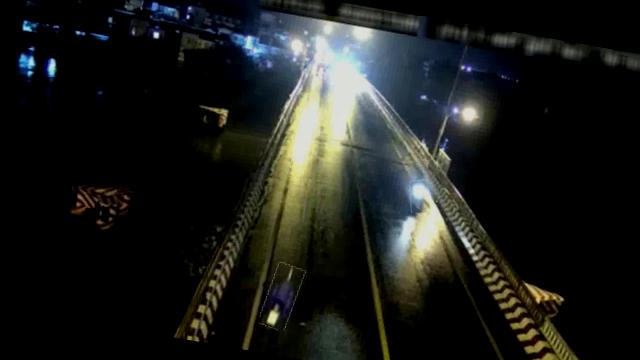Bike: (260, 260, 303, 332), (406, 178, 434, 215)
